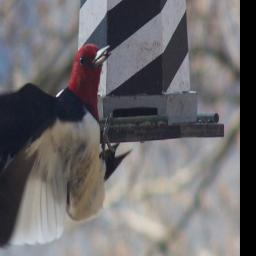Woodpecker: (0, 31, 127, 255)
